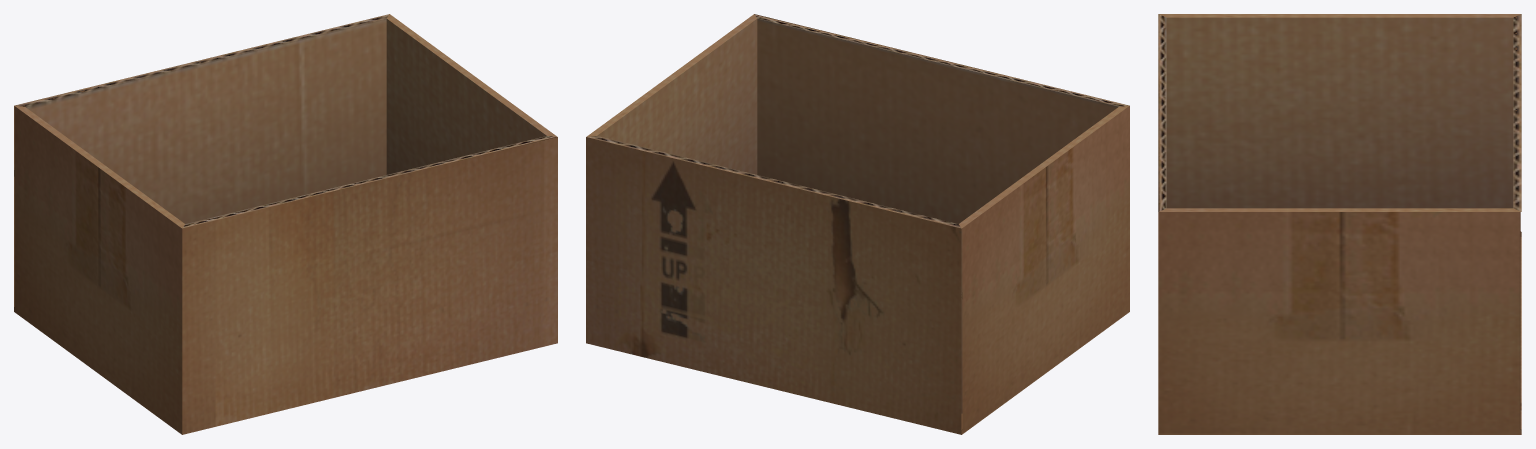
File: Empty_Cardboard_Box.FBX
The picture shows the model from 3 angles, left to right: view 1: azimuth 30°, elevation 25°; view 2: azimuth 150°, elevation 25°; view 3: azimuth 270°, elevation 25°; orthographic projection. The views are drawn at different scales.
Parts seen in each view (by area): view 1: Empty_Cardboard; view 2: Empty_Cardboard; view 3: Empty_Cardboard.
Part boxes in pixels (x1,y1,x2,y2): Empty_Cardboard: (14,14,557,434); Empty_Cardboard: (586,14,1129,434); Empty_Cardboard: (1158,14,1521,434).
Bounding box in the file's own units: 1527 × 802 × 1184.
1 material, 1 textured.
